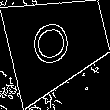O_E: (33, 15, 83, 70)
